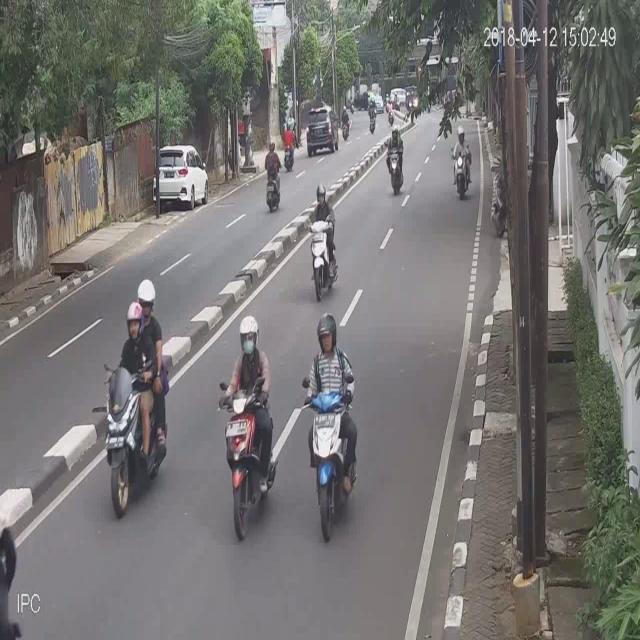bus: (100, 278, 168, 516), (216, 311, 280, 543), (297, 311, 358, 545), (307, 180, 338, 303), (448, 121, 472, 200), (263, 135, 284, 215), (386, 121, 406, 198), (280, 116, 298, 172)
motorcycle: (152, 140, 209, 214), (306, 100, 340, 156)
